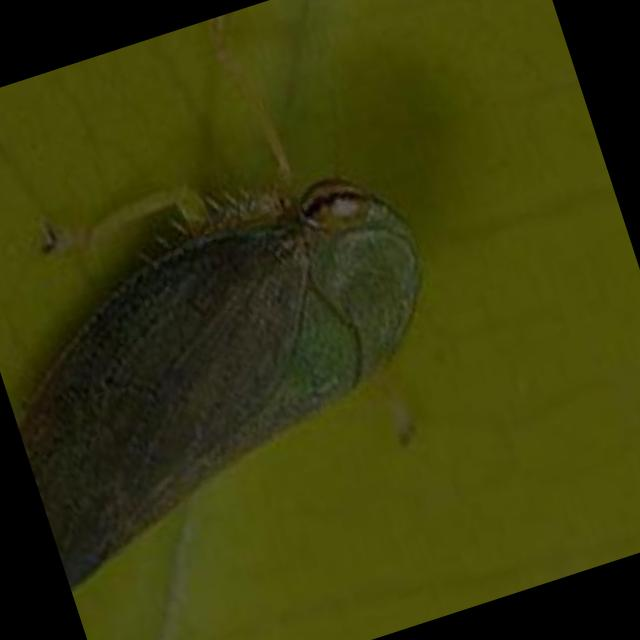green-leafhopper: (0, 133, 482, 580)
